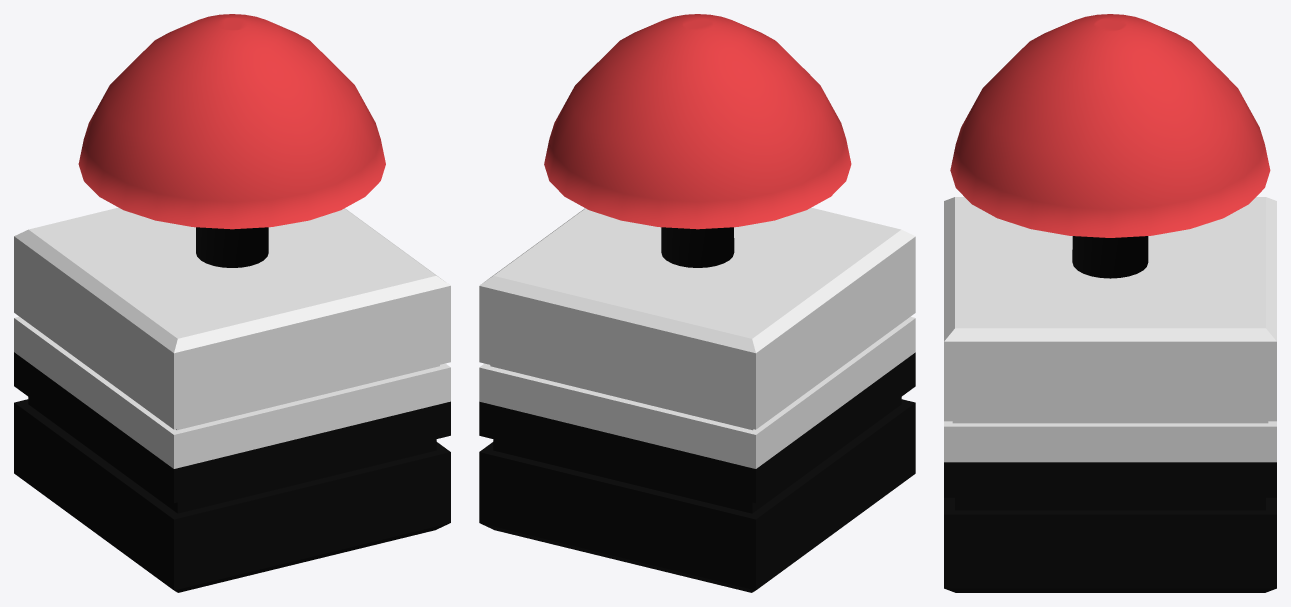
The model's file is B2ButtonRS.fbx.
3 views of the same model, side by side, from view 1: azimuth 30°, elevation 25°; view 2: azimuth 150°, elevation 25°; view 3: azimuth 270°, elevation 25° (orthographic). The views are drawn at different scales.
Visible parts, largest first — view 1: Cube.001; view 2: Cube.001; view 3: Cube.001.
Part boxes in pixels (bbox=[...]): Cube.001: bbox=[14, 14, 450, 592]; Cube.001: bbox=[479, 14, 915, 592]; Cube.001: bbox=[944, 14, 1276, 592].
Bounding box in the file's own units: 3.28 × 5.47 × 3.28.
